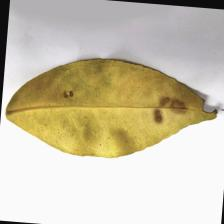black spot: (59, 79, 191, 134)
